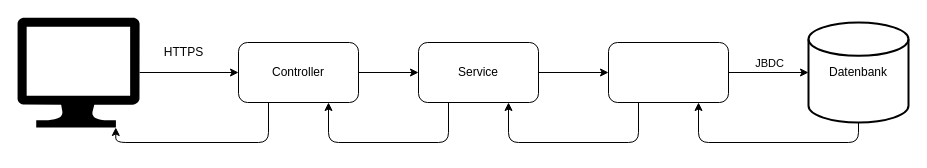
The diagram is 927 pixels wide and 168 high, and some of its shapes have lost their labels. Each missing label, with the centre of its shape:
"Frontend" belongs at pixel 78 72.
"Repository" belongs at pixel 668 72.
